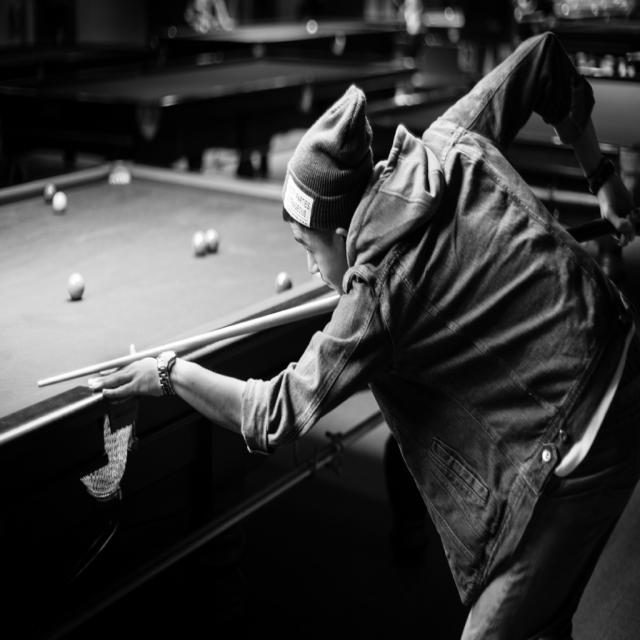Billiard table: (0, 160, 387, 634), (362, 68, 640, 228), (68, 52, 416, 177), (154, 19, 407, 65)
